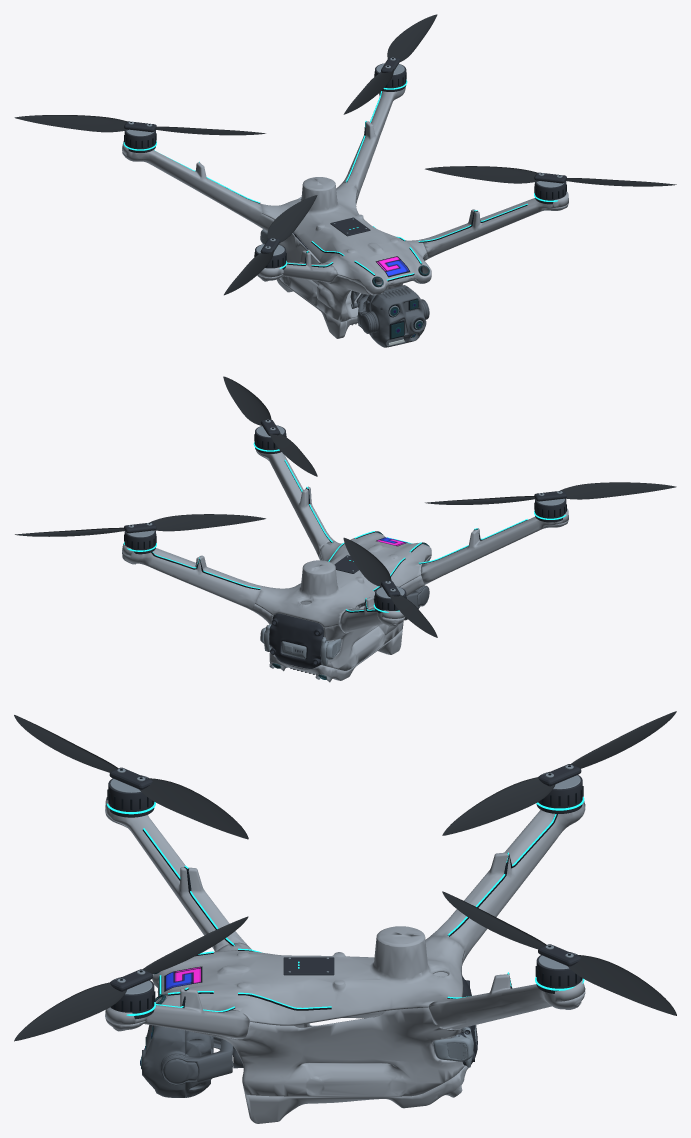
Rendered from drone.glb.
The picture shows the model from 3 angles, top to bottom: view 1: azimuth 30°, elevation 25°; view 2: azimuth 150°, elevation 25°; view 3: azimuth 270°, elevation 25°; orthographic projection. The views are drawn at different scales.
Visible parts, largest first — view 1: Airframe • fixed arms and landing supports, Gimbal • multi-sensor housing, Front right • blade 2, Rear left • blade 1, Front left • blade 2, Rear right • blade 1, Front left • blade 1, Rear right • blade 2, Rear left • blade 2, Front right • blade 1; view 2: Airframe • fixed arms and landing supports, Battery • removable pack, Front left • blade 1, Rear right • blade 2, Rear left • blade 2, Front right • blade 1, Rear left • blade 1, Front right • blade 2, Rear right • blade 1, Front left • blade 2, Front left • motor bell, Rear right • motor bell; view 3: Airframe • fixed arms and landing supports, Gimbal • multi-sensor housing, Front left • blade 2, Rear right • blade 1, Front right • blade 1, Rear left • blade 2, Rear right • blade 2, Front right • blade 2, Rear left • blade 1, Front left • blade 1, Battery • removable pack, Unbranded service hatch (+5 smaller).
Part boxes in pixels (box(x1,y1,x2,y2)): Airframe • fixed arms and landing supports: box(122, 87, 568, 338); Gimbal • multi-sensor housing: box(350, 277, 429, 347); Front right • blade 2: box(425, 166, 538, 183); Rear left • blade 1: box(14, 115, 128, 132); Front left • blade 2: box(267, 195, 317, 242); Rear right • blade 1: box(387, 14, 437, 61); Front left • blade 1: box(224, 250, 273, 295); Rear right • blade 2: box(343, 69, 393, 114); Rear left • blade 2: box(155, 126, 265, 135); Front right • blade 1: box(565, 178, 676, 186); Airframe • fixed arms and landing supports: box(122, 450, 568, 682); Battery • removable pack: box(260, 613, 341, 668); Front left • blade 1: box(560, 482, 676, 499); Rear right • blade 2: box(149, 514, 265, 531); Rear left • blade 2: box(343, 537, 391, 586); Front right • blade 1: box(223, 376, 271, 425); Rear left • blade 1: box(389, 594, 437, 637); Front right • blade 2: box(269, 433, 317, 476); Rear right • blade 1: box(15, 527, 125, 536); Front left • blade 2: box(425, 496, 535, 504); Front left • motor bell: box(535, 498, 566, 522); Rear right • motor bell: box(124, 530, 155, 554); Airframe • fixed arms and landing supports: box(105, 797, 585, 1123); Gimbal • multi-sensor housing: box(142, 1025, 243, 1097); Front left • blade 2: box(139, 778, 248, 839); Rear right • blade 1: box(567, 955, 676, 1015); Front right • blade 1: box(14, 982, 126, 1041); Rear left • blade 2: box(442, 777, 555, 835); Rear right • blade 2: box(442, 891, 546, 949); Front right • blade 2: box(142, 916, 248, 974); Rear left • blade 1: box(571, 711, 676, 768); Front left • blade 1: box(14, 715, 118, 772); Battery • removable pack: box(433, 975, 477, 1067); Unbranded service hatch: box(283, 957, 334, 975).
Bounding box in the file's own units: 0.6092 × 0.2105 × 0.5228.
17 materials, 1 textured.
